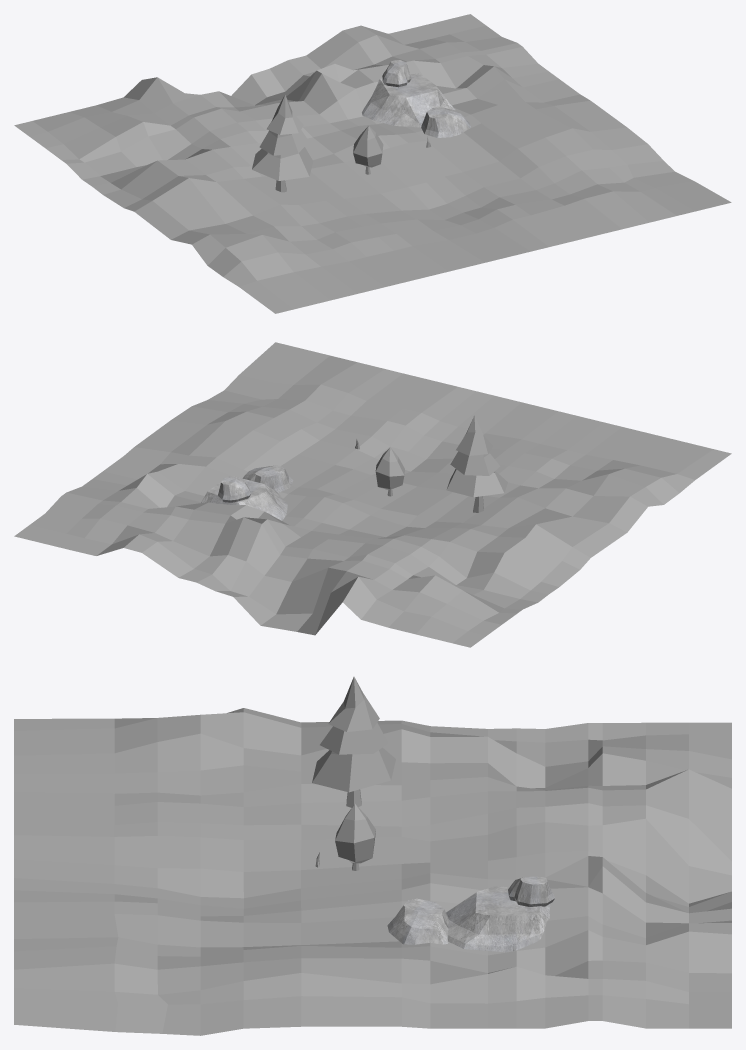
File: BaseCampModel.fbx
The picture shows the model from 3 angles, top to bottom: view 1: azimuth 30°, elevation 25°; view 2: azimuth 150°, elevation 25°; view 3: azimuth 270°, elevation 25°; orthographic projection. The views are drawn at different scales.
Parts seen in each view (by area): view 1: Wall3D2, Tree, RockLarge, RockMedium, Shrub, RockSmall; view 2: Wall3D2, Tree, RockLarge, Shrub, RockMedium, RockSmall; view 3: Wall3D2, Tree, RockLarge, RockMedium, Shrub, RockSmall.
Part boxes in pixels (<box>): Wall3D2: <box>14,14,731,313</box>; Tree: <box>252,95,313,192</box>; RockLarge: <box>362,73,455,127</box>; RockMedium: <box>421,107,470,137</box>; Shrub: <box>353,125,383,174</box>; RockSmall: <box>382,60,410,87</box>; Wall3D2: <box>14,342,731,647</box>; Tree: <box>446,415,507,512</box>; RockLarge: <box>201,477,287,520</box>; Shrub: <box>375,447,404,496</box>; RockMedium: <box>242,465,293,492</box>; RockSmall: <box>218,476,250,502</box>; Wall3D2: <box>14,708,731,1035</box>; Tree: <box>312,676,395,807</box>; RockLarge: <box>446,886,550,952</box>; RockMedium: <box>387,898,449,944</box>; Shrub: <box>335,804,375,870</box>; RockSmall: <box>508,876,554,906</box>.
Size of the model in its own units: 25911 by 6969 by 25704.
